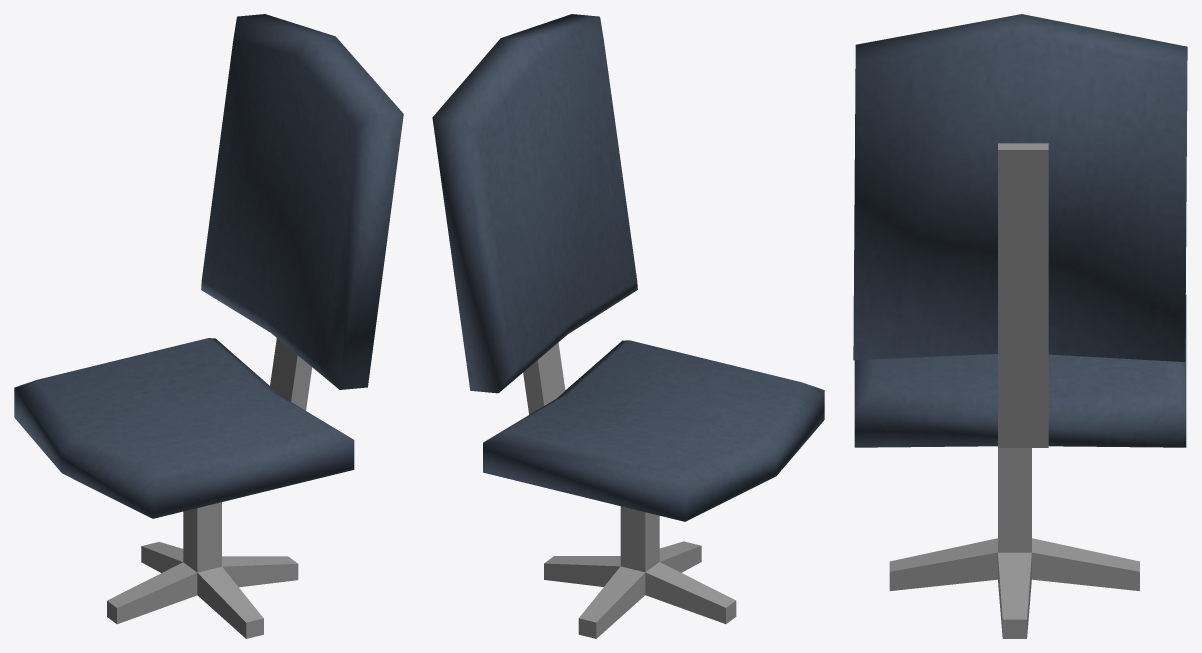
File: chair.fbx
3 views of the same model, side by side, from view 1: azimuth 30°, elevation 25°; view 2: azimuth 150°, elevation 25°; view 3: azimuth 270°, elevation 25° (orthographic). The views are drawn at different scales.
Visible parts, largest first — view 1: Cube.003, Cube.002, Cube.004; view 2: Cube.003, Cube.002, Cube.004; view 3: Cube.003, Cube.004, Cube.002.
Part boxes in pixels (x1,y1,x2,y2): Cube.003: (201,14,403,389); Cube.002: (14,338,354,518); Cube.004: (107,338,312,638); Cube.003: (432,14,637,393); Cube.002: (483,340,824,521); Cube.004: (523,342,736,638); Cube.003: (853,14,1187,362); Cube.004: (889,143,1139,638); Cube.002: (854,294,1186,447).
Bounding box in the file's own units: 101 × 186 × 88.85.
